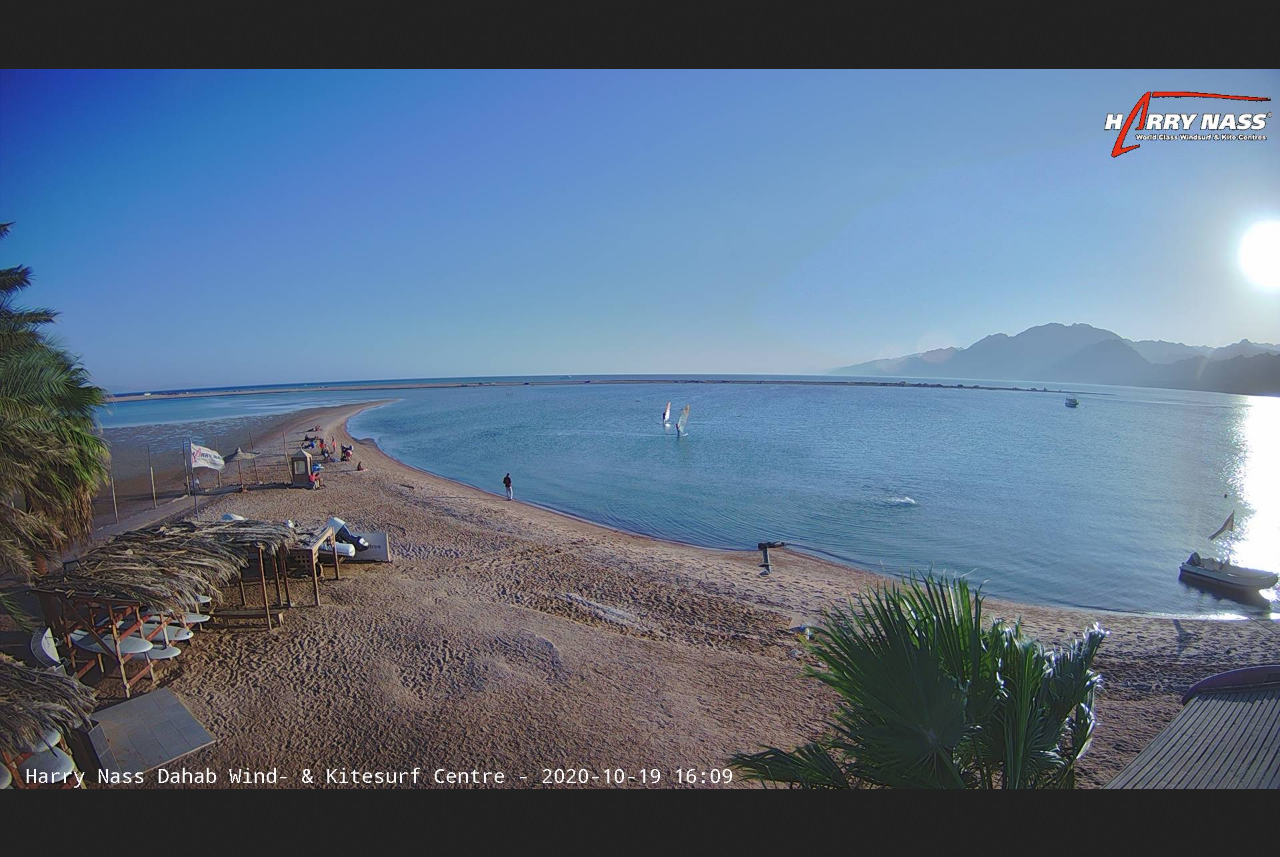yes: (183, 440, 225, 475)
